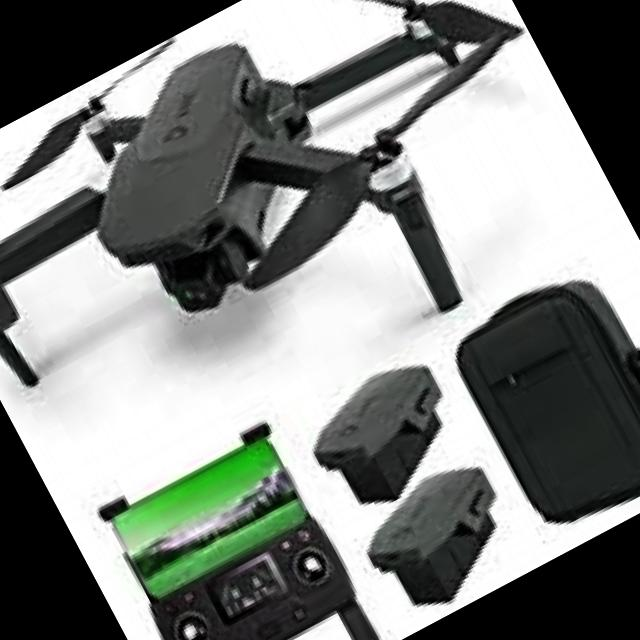drone: (0, 0, 629, 520)
